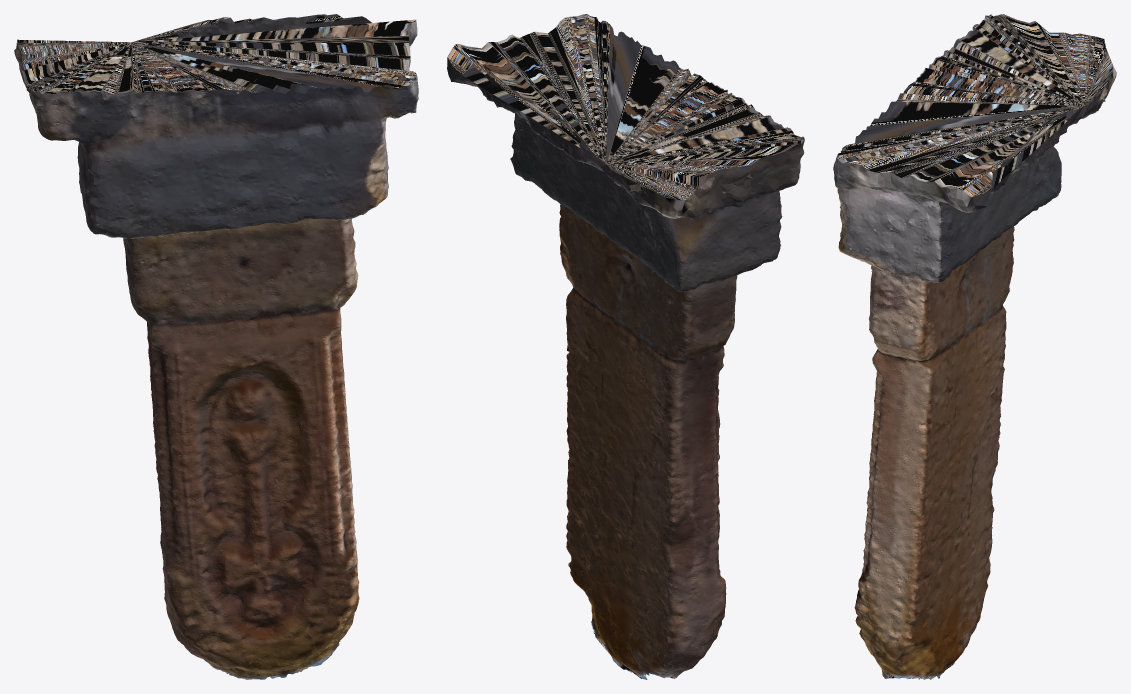
Rendered from 20210904_114831edited.obj.
3 views of the same model, side by side, from view 1: azimuth 30°, elevation 25°; view 2: azimuth 150°, elevation 25°; view 3: azimuth 270°, elevation 25° (orthographic). The views are drawn at different scales.
Visible parts, largest first — view 1: texturedMesh; view 2: texturedMesh; view 3: texturedMesh.
Part boxes in pixels (x1,y1,x2,y2): texturedMesh: (14,14,418,679); texturedMesh: (447,14,804,679); texturedMesh: (833,14,1116,679).
Bounding box in the file's own units: 0.6973 × 1.09 × 0.4917.
1 material, 1 textured.
